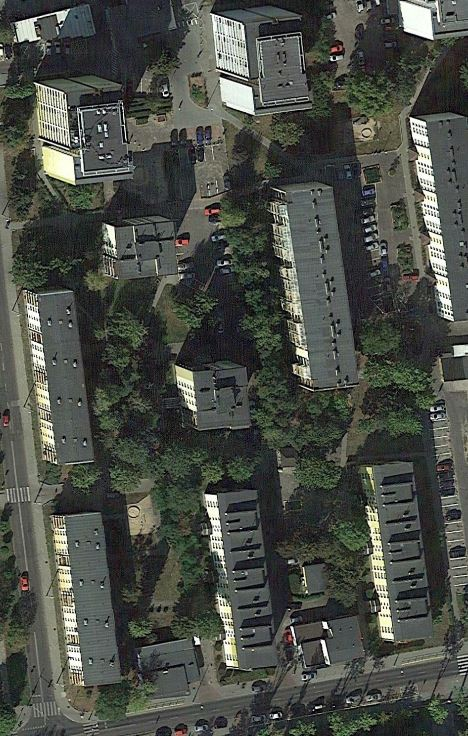block of flats: (263, 176, 362, 399), (200, 486, 285, 675), (354, 462, 441, 645), (45, 509, 127, 690), (26, 66, 144, 187), (22, 288, 98, 469), (406, 110, 468, 328), (208, 5, 319, 116), (172, 357, 259, 431), (95, 210, 183, 282)
family house: (289, 608, 369, 674), (136, 630, 206, 704)
